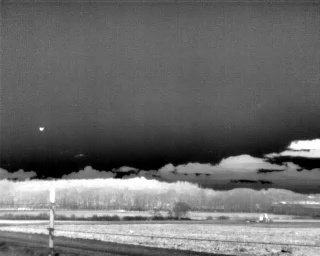DRONE: (36, 123, 47, 134)
